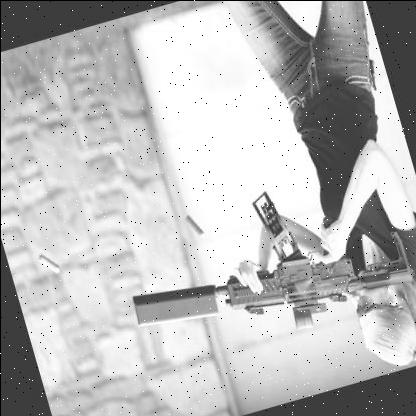rifle: (101, 142, 416, 386)
